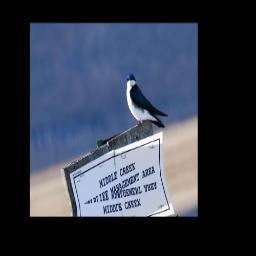Swallow: (122, 61, 169, 140)
